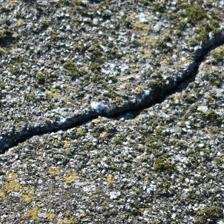Crack: (3, 17, 215, 139)
